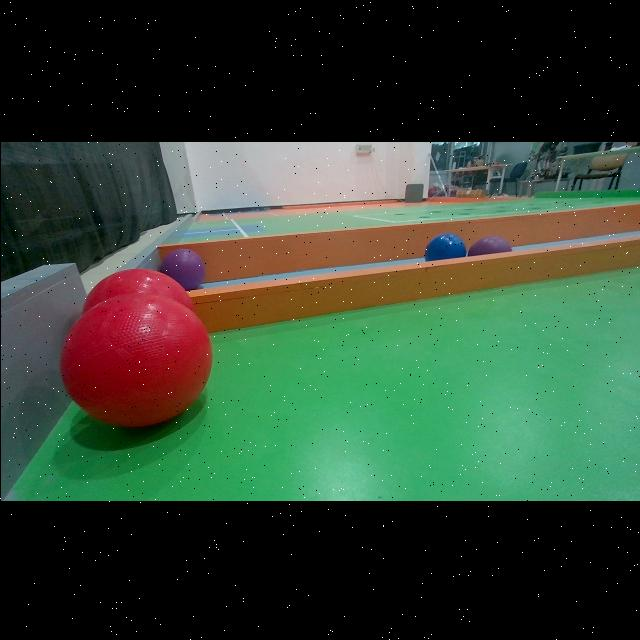R: (58, 290, 212, 426), (84, 268, 194, 304)
